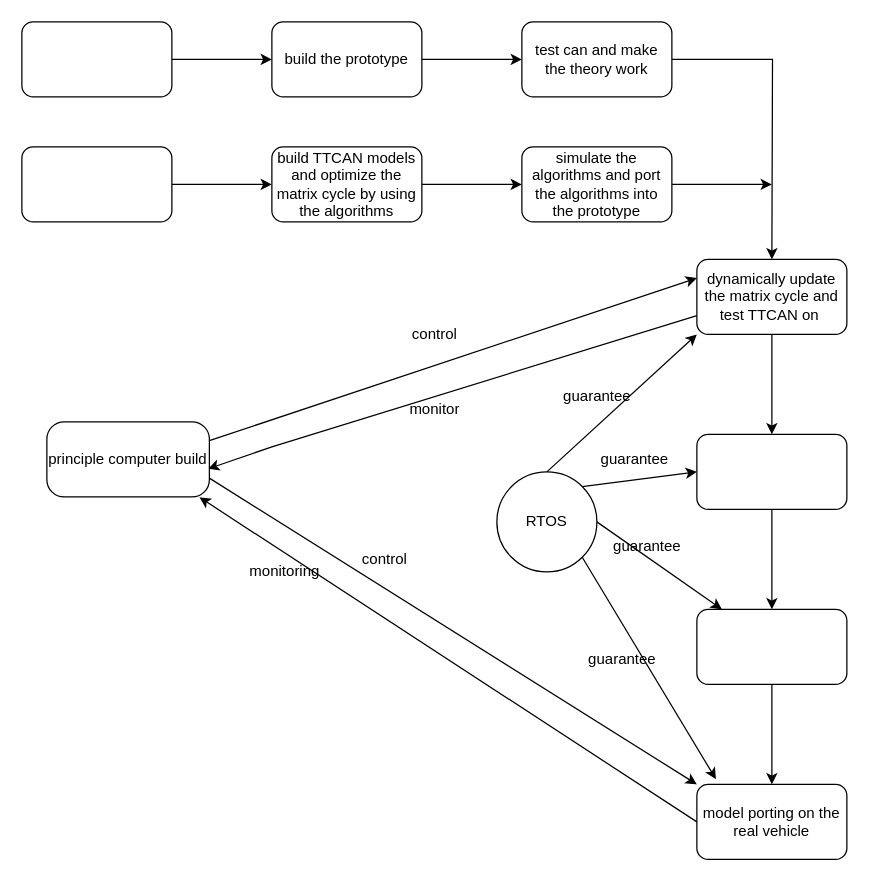
The diagram is 869 pixels wide and 881 high, and some of its shapes have lost their labels. The centre of each missing label's shape, as x and y in pixels:
"get the hardwares" goes at [96,59].
"research the optimization algorithms" goes at [96,184].
"simulate the results and compare with the original version" goes at [771,646].
"try optimize the structure of matrix and mechanism" goes at [771,471].
